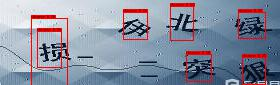chinese: (117, 16, 151, 40), (181, 56, 216, 79), (239, 58, 271, 83), (235, 15, 269, 37), (39, 39, 71, 62), (170, 11, 195, 37)
